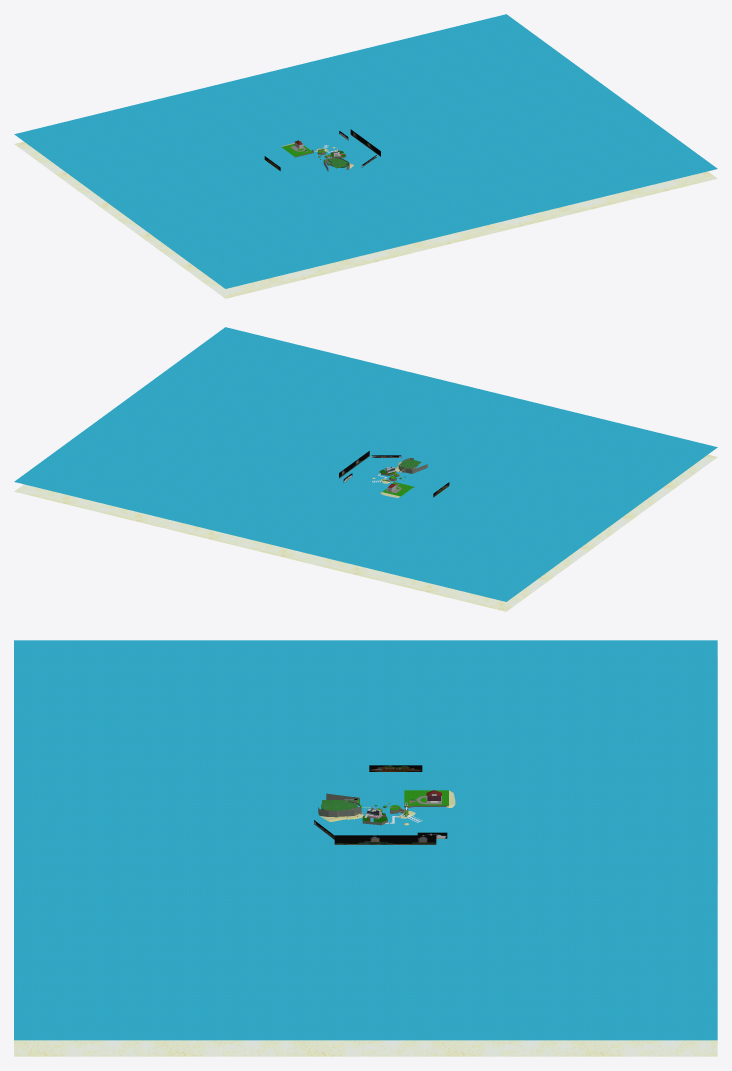
The picture shows the model from 3 angles, top to bottom: view 1: azimuth 30°, elevation 25°; view 2: azimuth 150°, elevation 25°; view 3: azimuth 270°, elevation 25°; orthographic projection. The views are drawn at different scales.
Visible parts, largest first — view 1: JungleIsland_c_Island_Water-Water_Sparkling1, JungleIsland_c_Beach-m39; view 2: JungleIsland_c_Island_Water-Water_Sparkling1, JungleIsland_c_Beach-m39; view 3: JungleIsland_c_Island_Water-Water_Sparkling1, JungleIsland_c_Beach-m39, JungleIsland_Main-Fishdom1, JungleIsland_c_Island_Walls-Wall1.
Boxes of the visible parts, <box> form: JungleIsland_c_Island_Water-Water_Sparkling1: <box>14,14,717,288</box>; JungleIsland_c_Beach-m39: <box>14,141,717,298</box>; JungleIsland_c_Island_Water-Water_Sparkling1: <box>14,327,717,601</box>; JungleIsland_c_Beach-m39: <box>14,454,717,611</box>; JungleIsland_c_Island_Water-Water_Sparkling1: <box>14,640,717,1040</box>; JungleIsland_c_Beach-m39: <box>14,657,717,1056</box>; JungleIsland_Main-Fishdom1: <box>334,835,436,844</box>; JungleIsland_c_Island_Walls-Wall1: <box>318,793,447,825</box>.
Size of the model in its own units: 2069593 by 69586 by 1539767.
Materials: 64 (64 with a texture image).
